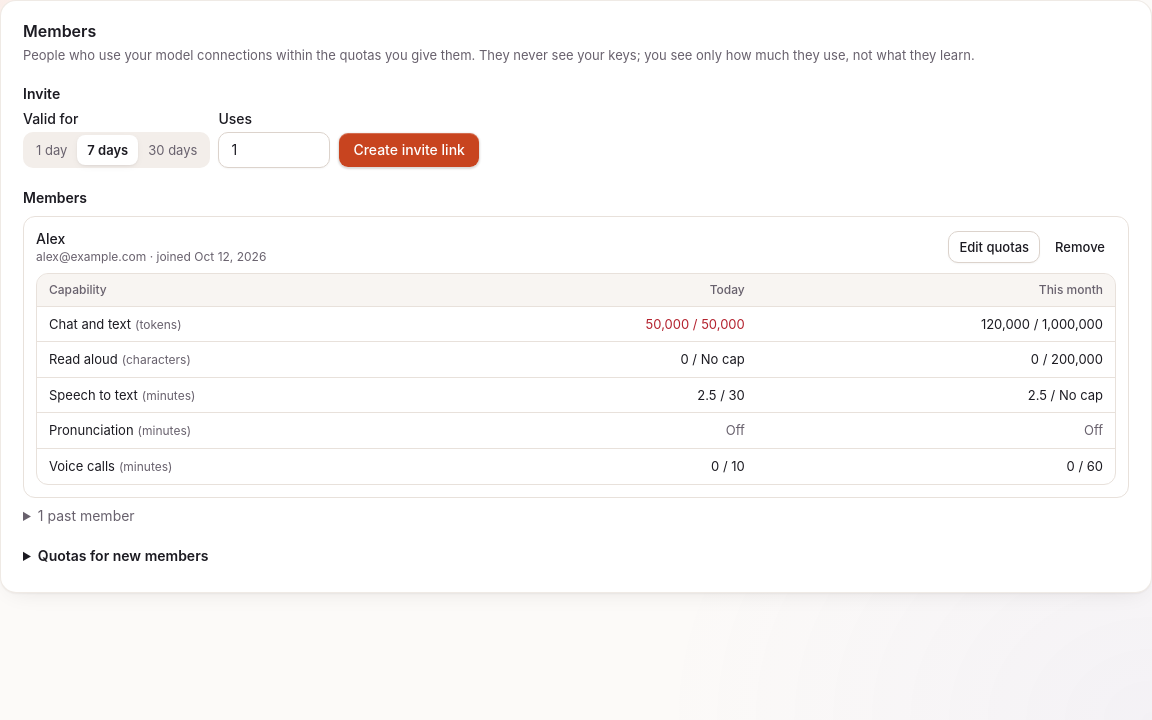
Test case: MembersSection › creates an invite and shows its link once
The width and height of the screenshot is (1152, 720).
Click the radio button labelled "30 days" at coordinates (173, 150), box [138,135,207,165]
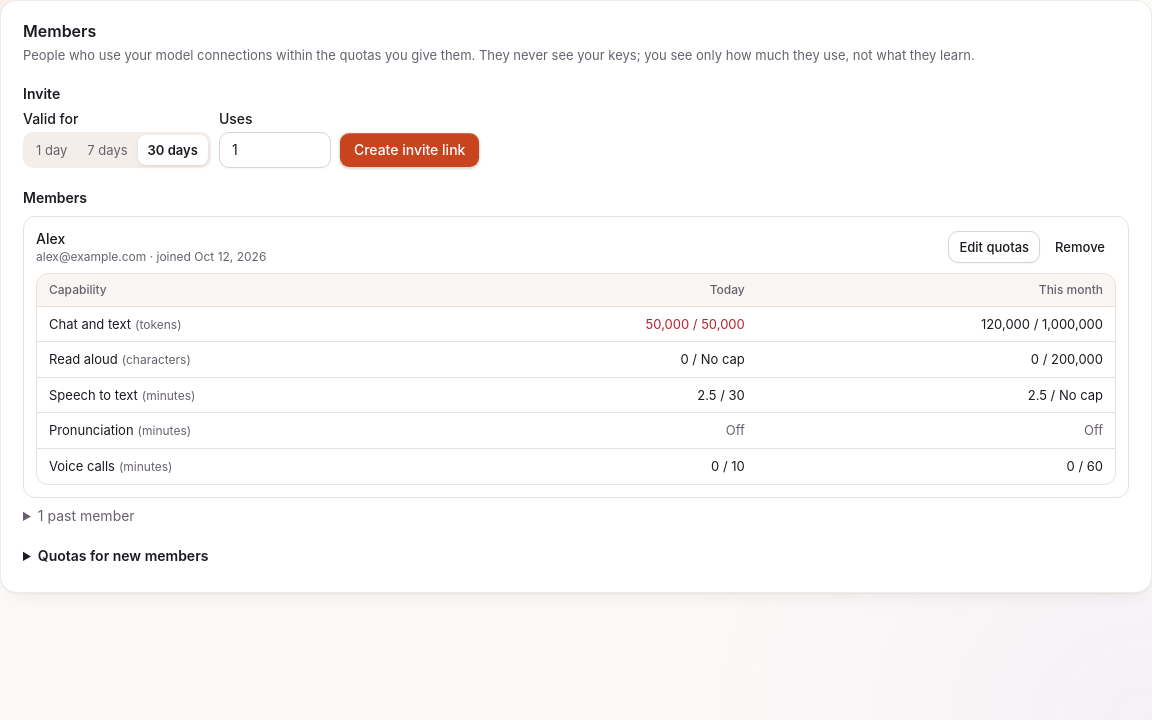
Clear the number field labelled "Uses" at coordinates (275, 150), box [219,132,331,168]
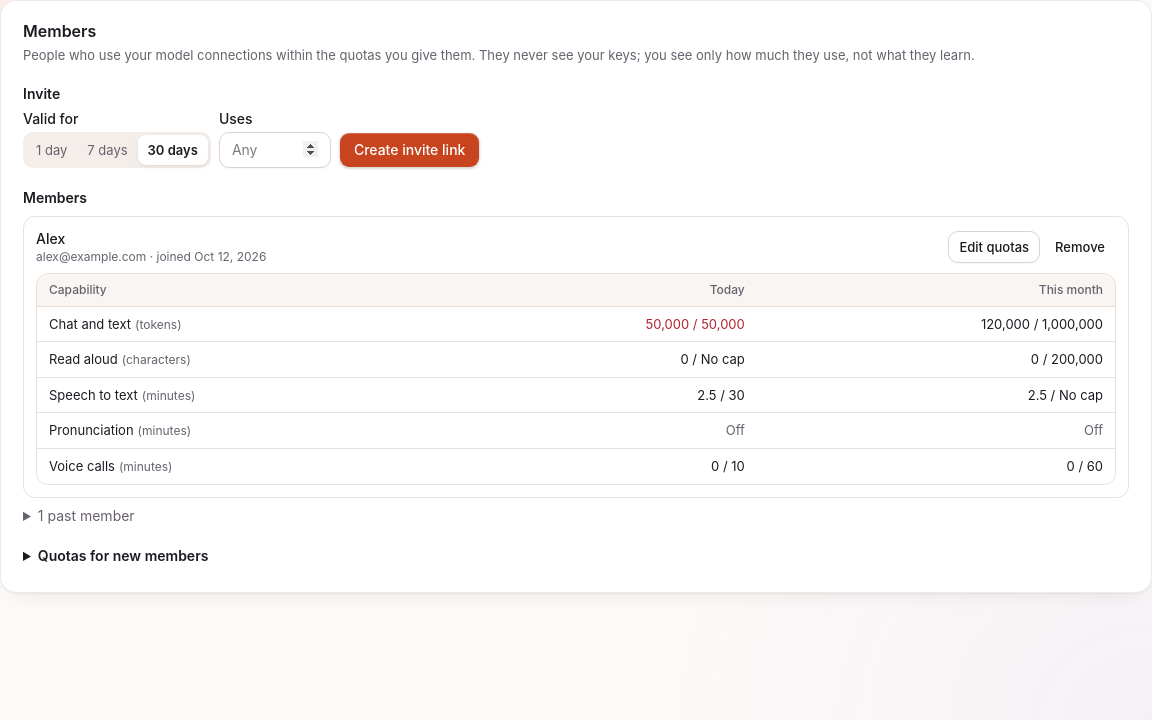
Click the button "Create invite link" at coordinates (410, 150), box [339,132,480,168]
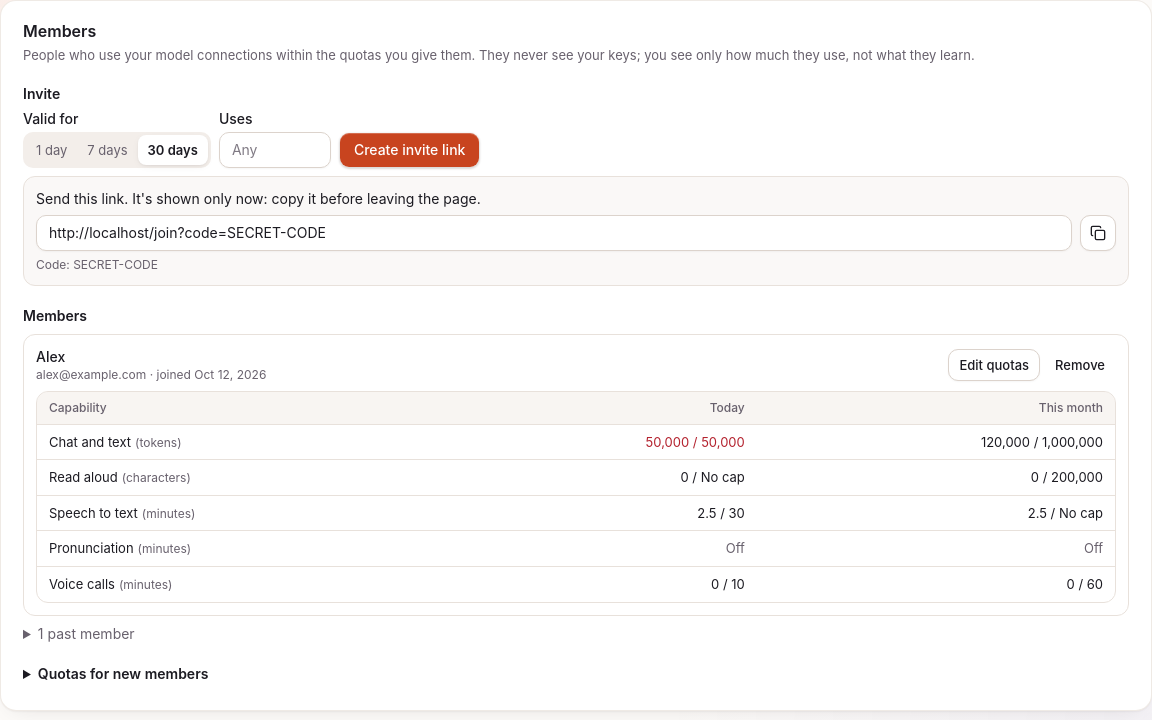
expect the text "Code: SECRET-CODE" is shown: met, box [36,257,158,272]
